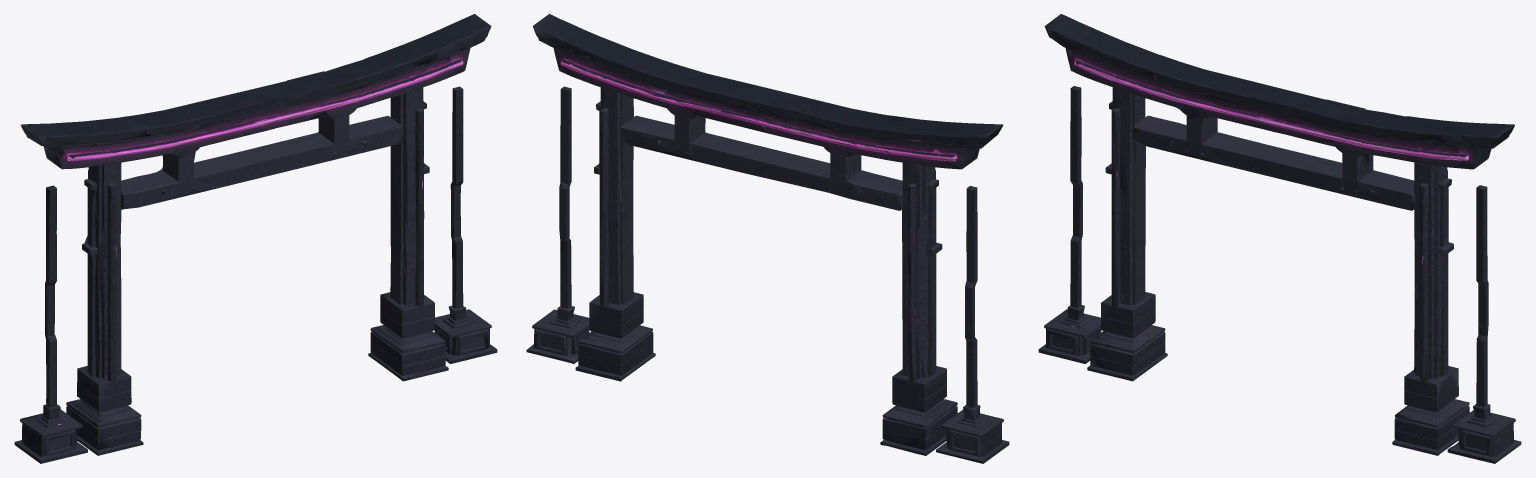
File: mx_prop_neon_arch.glb
3 renders of one model, left to right at view 1: azimuth 30°, elevation 25°; view 2: azimuth 150°, elevation 25°; view 3: azimuth 330°, elevation 25°, orthographic.
Size of the model in its own units: 1.9 by 1.3 by 0.2521.
1 material, 1 textured.
